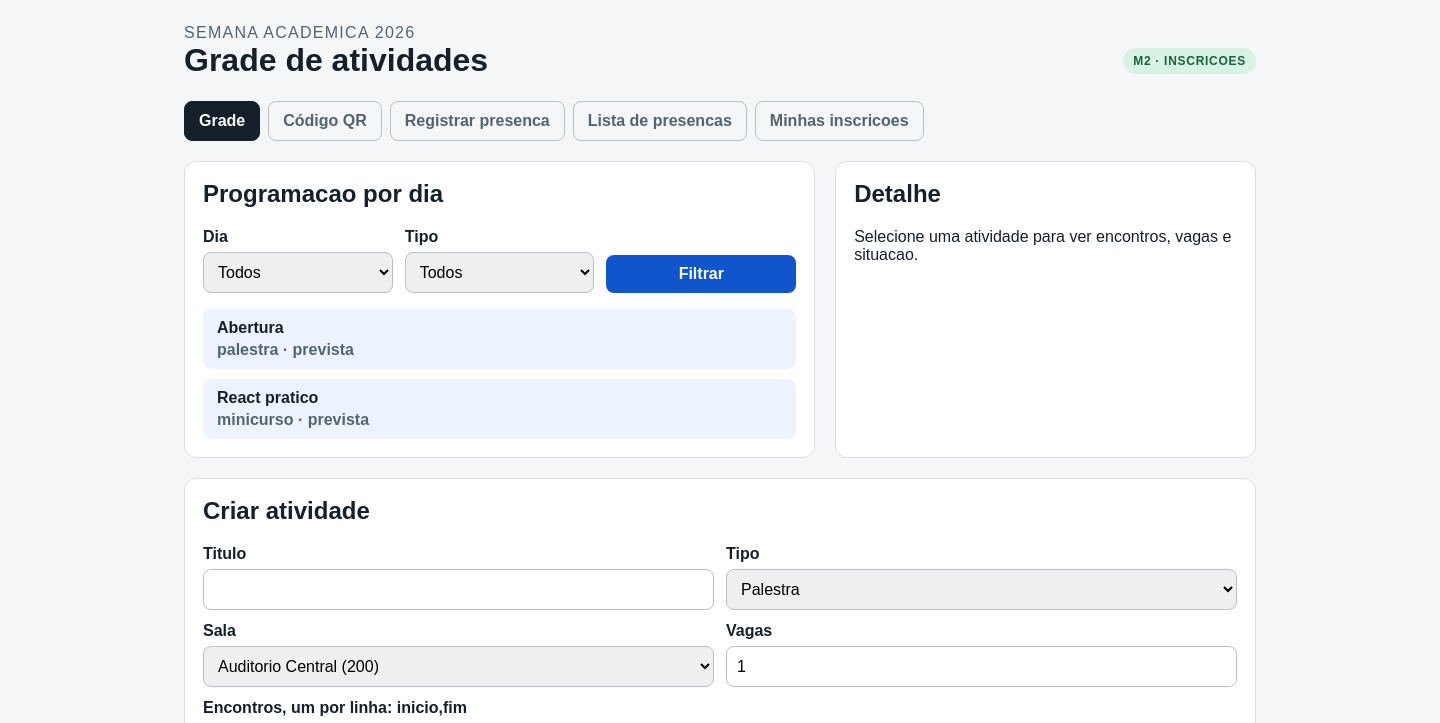
Scenario: M3 presenca por QR › mostra o codigo do encontro para a organizacao
Click the button "Código QR". click: (325,121)
box: [268,101,382,141]
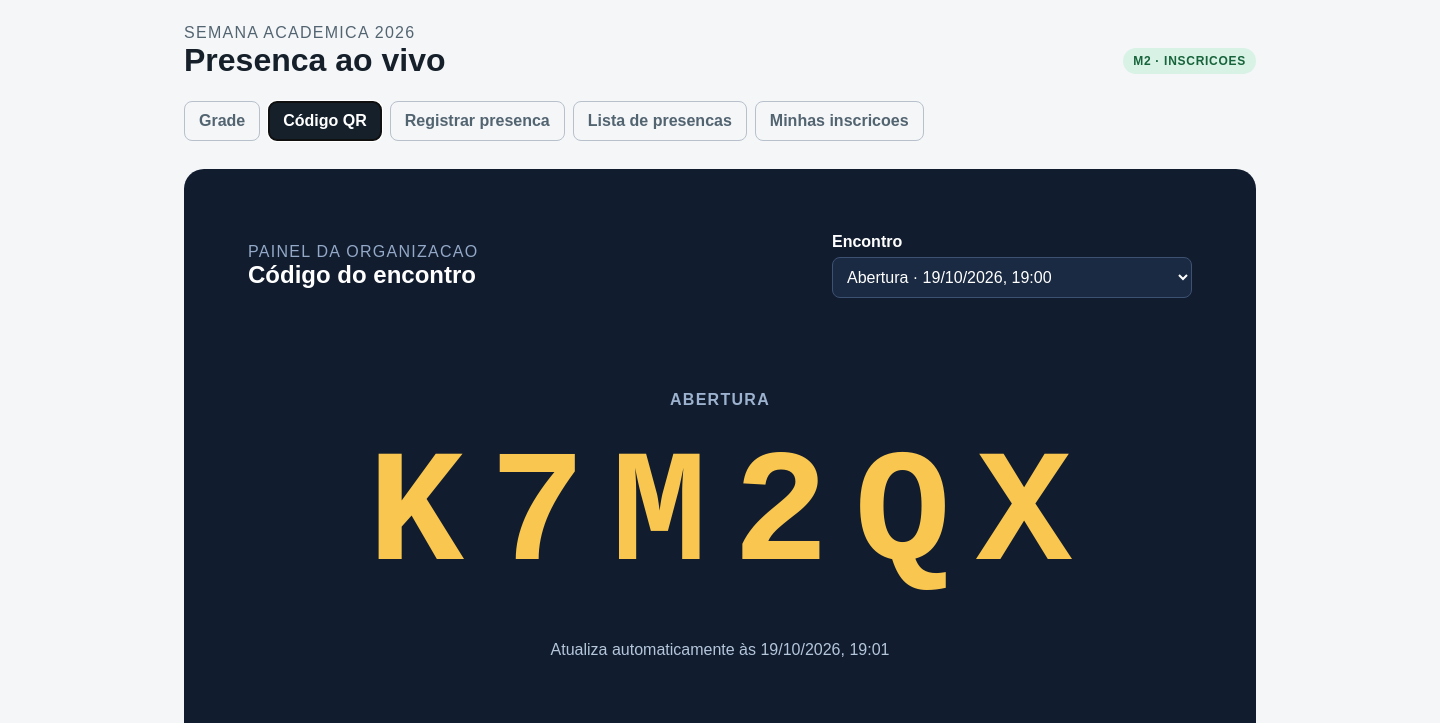
Expected: the heading "Código do encontro" is shown, [248,260,478,288]
Expected: the text "K7M2QX" is shown, [342,437,1098,597]
